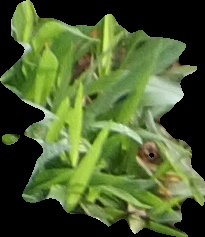grass: (1, 1, 204, 236)
